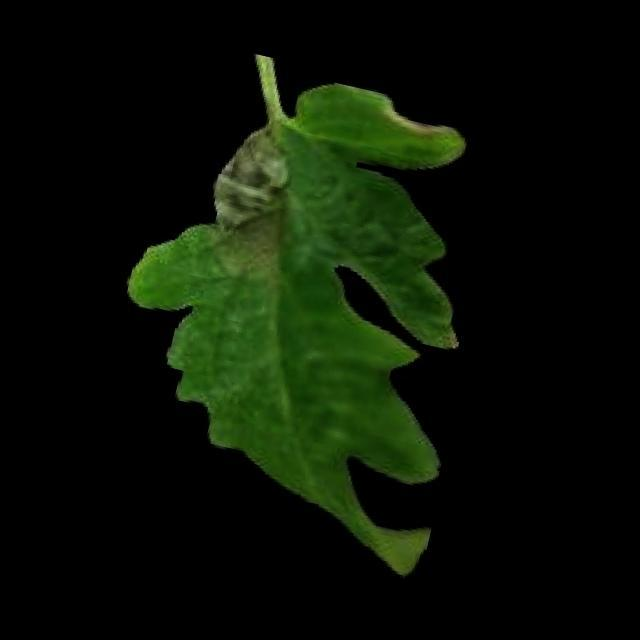Tomato late blight leaf: (76, 46, 529, 584)
